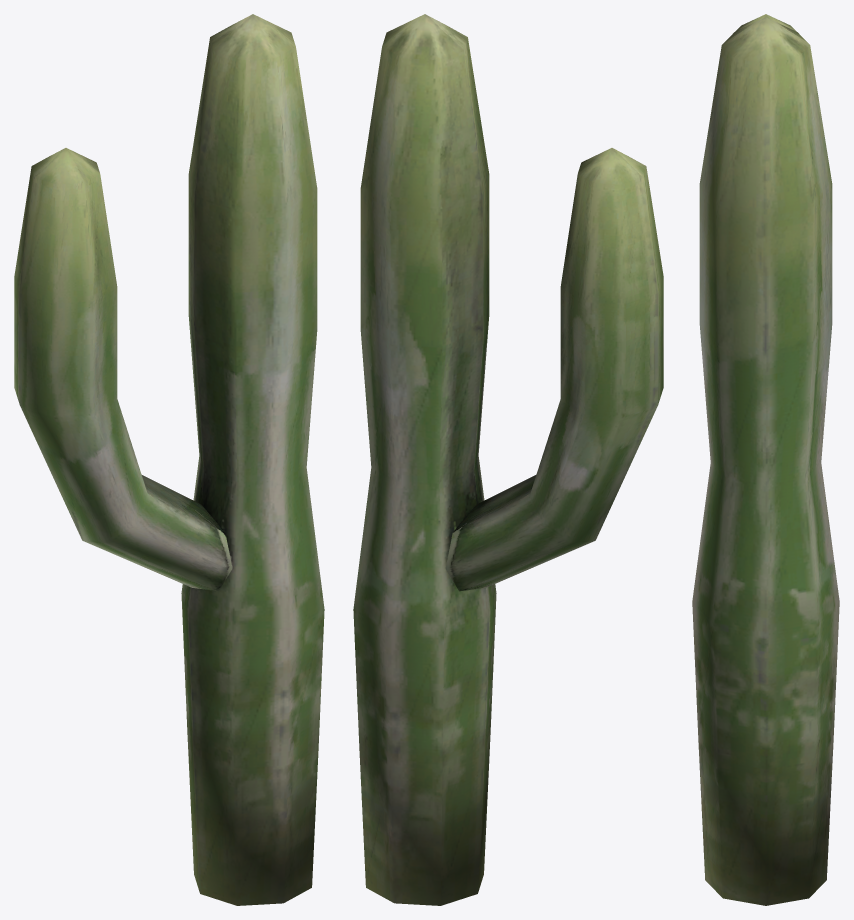
The model's file is Kaktus2.gltf.
The picture shows the model from 3 angles, left to right: view 1: azimuth 30°, elevation 25°; view 2: azimuth 150°, elevation 25°; view 3: azimuth 270°, elevation 25°; orthographic projection.
Parts seen in each view (by area): view 1: Kaktus; view 2: Kaktus; view 3: Kaktus.
Part boxes in pixels (x1=…): Kaktus: x1=14, y1=14, x2=324, y2=905; Kaktus: x1=353, y1=14, x2=663, y2=905; Kaktus: x1=692, y1=14, x2=839, y2=905.
Size of the model in its own units: 1.41 by 3.92 by 0.6076.
Materials: 1 (1 with a texture image).
